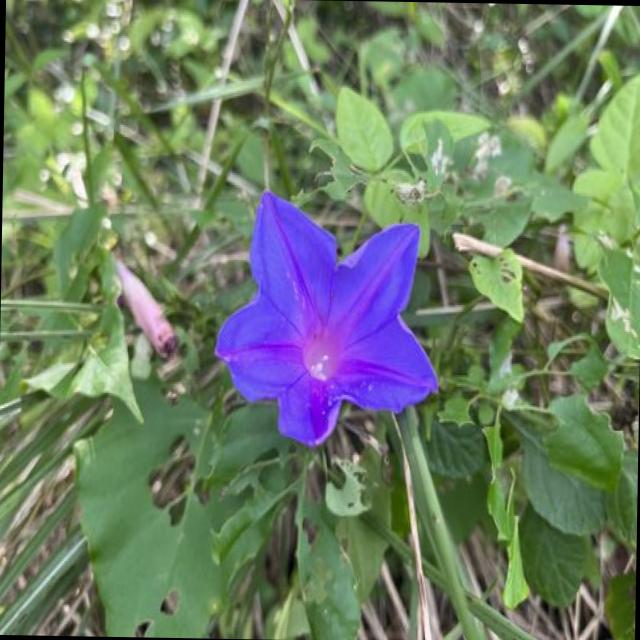ipomoea: (210, 186, 445, 454)
